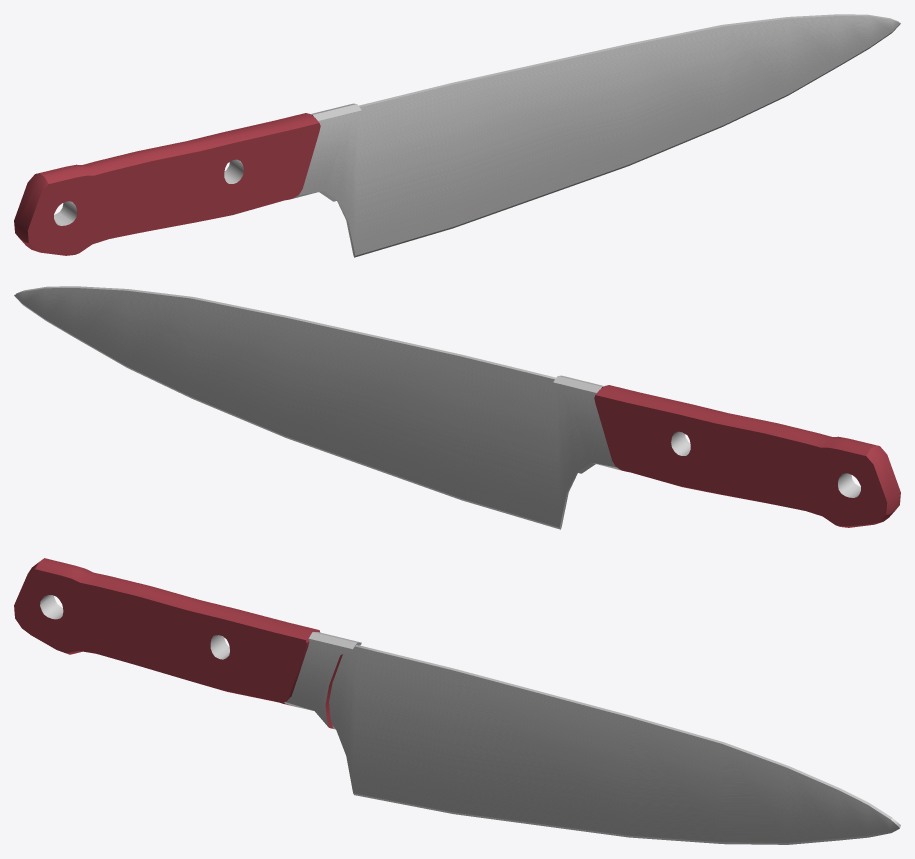
Rendered from KNIFE_06.FBX.
The picture shows the model from 3 angles, top to bottom: view 1: azimuth 30°, elevation 25°; view 2: azimuth 150°, elevation 25°; view 3: azimuth 330°, elevation 25°; orthographic projection.
Parts seen in each view (by area): view 1: Plane008; view 2: Plane008; view 3: Plane008.
Boxes of the visible parts, bbox=[...] form: Plane008: bbox=[14, 14, 900, 257]; Plane008: bbox=[14, 286, 900, 529]; Plane008: bbox=[14, 558, 900, 844].
Bounding box in the file's own units: 126 × 21.82 × 3.42.
3 materials, 1 textured.
